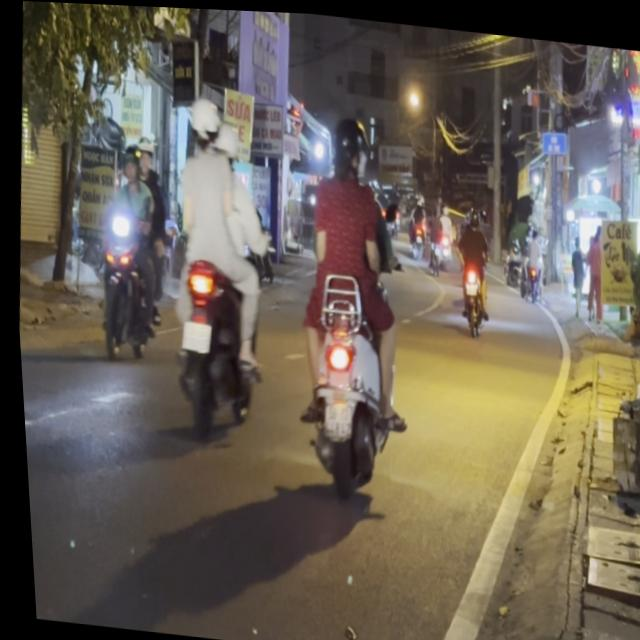helmet: (324, 108, 372, 176), (182, 92, 221, 148), (210, 114, 237, 158), (115, 136, 138, 179), (130, 130, 152, 170)
licenseplate: (270, 101, 423, 501), (148, 85, 281, 444), (76, 127, 174, 365)
nohelmet: (314, 391, 348, 433), (173, 316, 207, 349)
